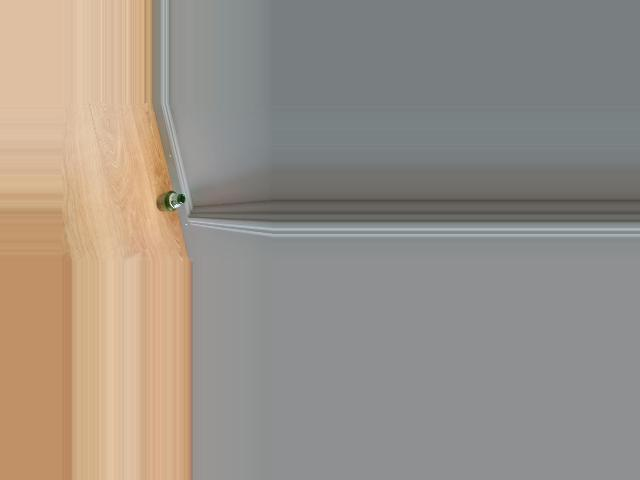beer: (156, 191, 184, 211)
